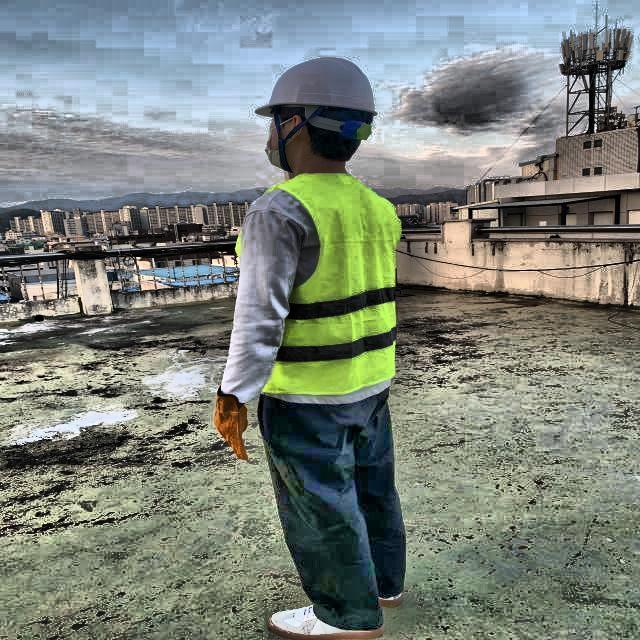safety_jacket: (236, 174, 403, 396)
